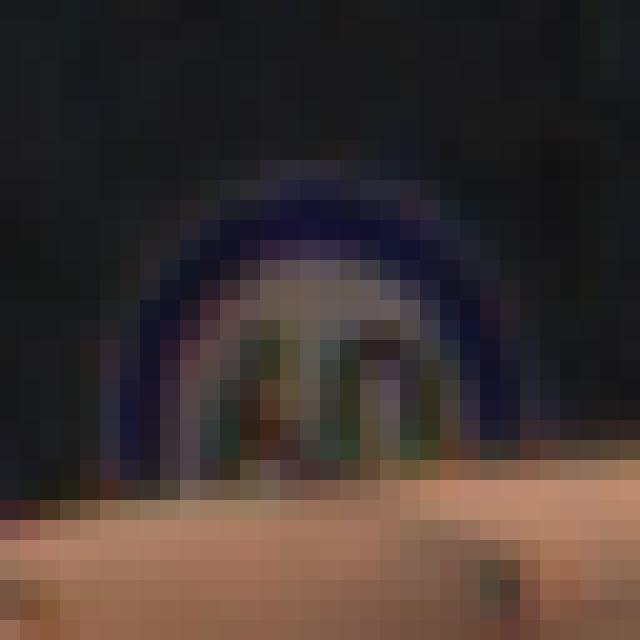SPEED-LIMIT-60: (76, 154, 549, 605)
